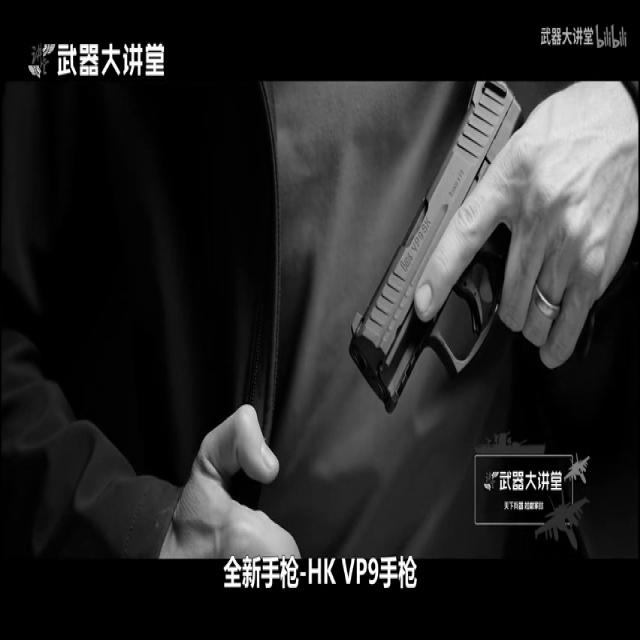Hand-Gun: (310, 52, 591, 424)
